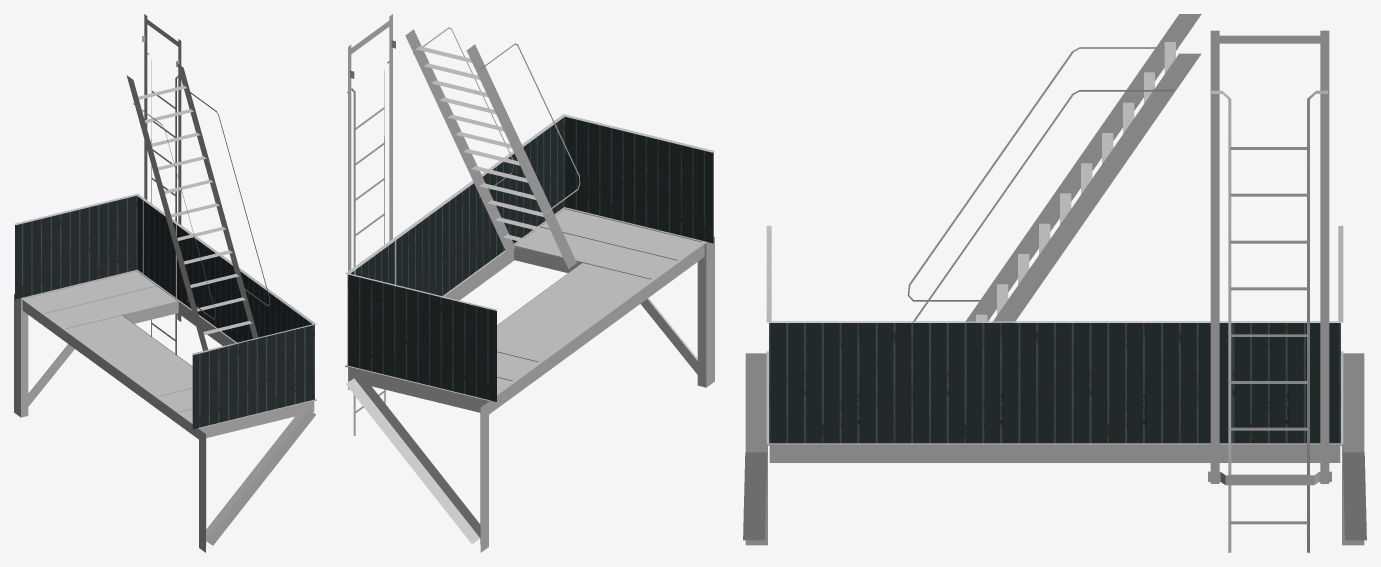
The model's file is Fire_escape1_LOD2.fbx.
3 views of the same model, side by side, from view 1: azimuth 30°, elevation 25°; view 2: azimuth 150°, elevation 25°; view 3: azimuth 270°, elevation 25° (orthographic). The views are drawn at different scales.
Parts seen in each view (by area): view 1: polySurface954; view 2: polySurface954; view 3: polySurface954.
Part boxes in pixels (box(x1,y1,x2,y2)): polySurface954: box(14, 14, 316, 552); polySurface954: box(345, 14, 714, 552); polySurface954: box(743, 14, 1366, 552).
Size of the model in its own units: 1.69 by 4.71 by 4.38.
